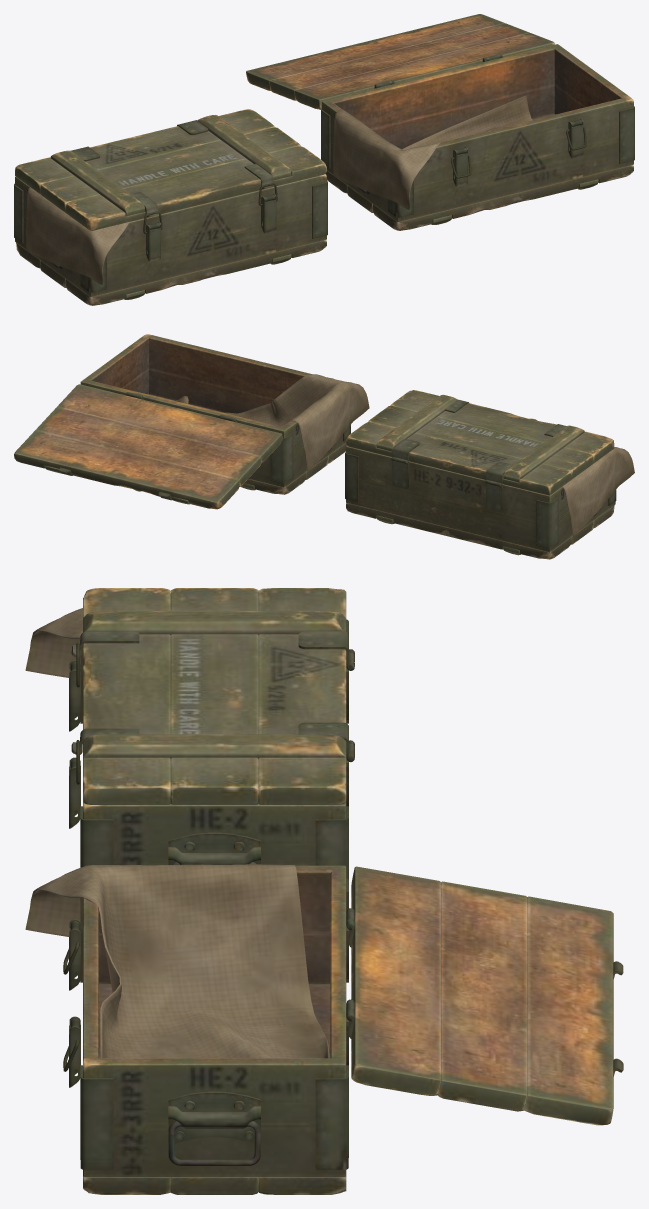
The model's file is old_military_crate.glb.
The picture shows the model from 3 angles, top to bottom: view 1: azimuth 30°, elevation 25°; view 2: azimuth 150°, elevation 25°; view 3: azimuth 270°, elevation 25°; orthographic projection. The views are drawn at different scales.
Visible parts, largest first — view 1: old_military_crate_b, old_military_crate_lid_a, old_military_crate_a, old_military_crate_lid_b, old_military_crate_cloth_b, old_military_crate_cloth_a, old_military_crate_latch_a, old_military_crate_latch_b; view 2: old_military_crate_lid_b, old_military_crate_lid_a, old_military_crate_a, old_military_crate_b, old_military_crate_cloth_b, old_military_crate_cloth_a; view 3: old_military_crate_lid_a, old_military_crate_lid_b, old_military_crate_b, old_military_crate_cloth_b, old_military_crate_a, old_military_crate_cloth_a, old_military_crate_latch_b, old_military_crate_latch_a.
Part boxes in pixels (x1,y1,x2,y2): old_military_crate_b: (321, 44, 634, 230); old_military_crate_lid_a: (15, 109, 326, 230); old_military_crate_a: (14, 174, 327, 305); old_military_crate_lid_b: (246, 14, 555, 109); old_military_crate_cloth_b: (333, 95, 532, 209); old_military_crate_cloth_a: (26, 187, 129, 284); old_military_crate_latch_a: (146, 194, 276, 261); old_military_crate_latch_b: (453, 119, 583, 186); old_military_crate_lid_b: (14, 384, 282, 509); old_military_crate_lid_a: (346, 390, 614, 495); old_military_crate_a: (345, 446, 616, 559); old_military_crate_b: (80, 334, 350, 494); old_military_crate_cloth_b: (174, 374, 369, 470); old_military_crate_cloth_a: (562, 447, 634, 535); old_military_crate_lid_a: (71, 588, 354, 804); old_military_crate_lid_b: (346, 866, 623, 1125); old_military_crate_b: (80, 865, 354, 1194); old_military_crate_cloth_b: (25, 864, 329, 1058); old_military_crate_a: (80, 619, 354, 879); old_military_crate_cloth_a: (25, 608, 82, 677); old_military_crate_latch_b: (69, 919, 80, 1087); old_military_crate_latch_a: (69, 660, 80, 828).
Size of the model in its own units: 1.82 by 0.3009 by 0.9757.
1 material, 1 textured.
